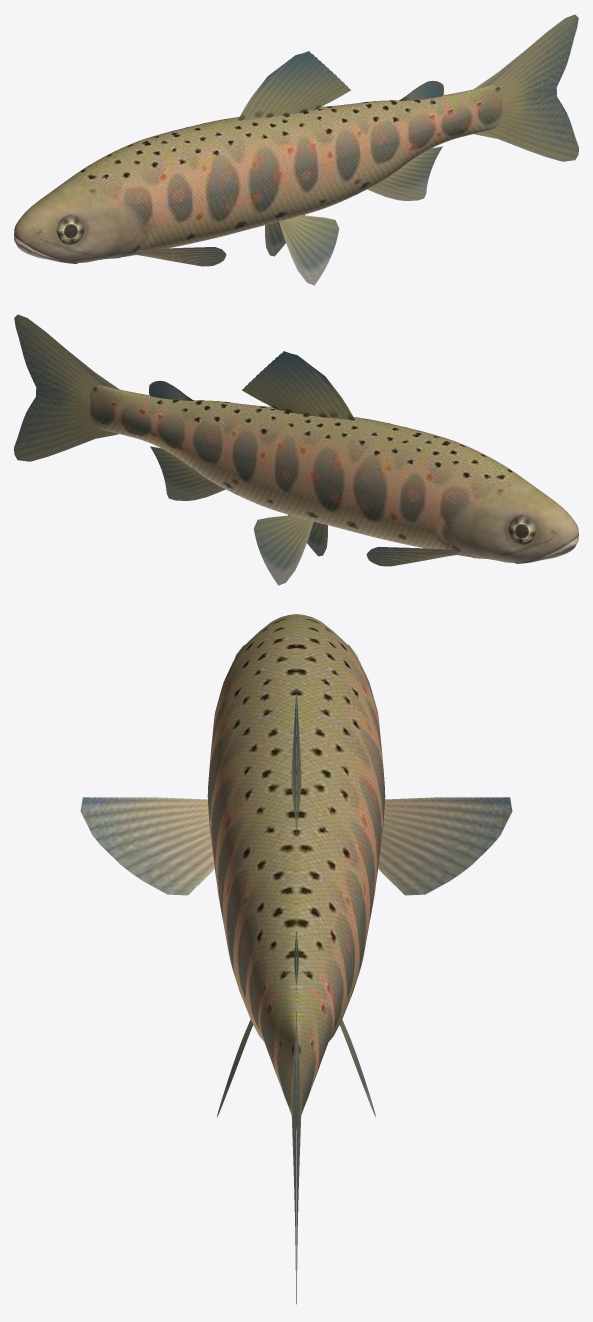
File: AmagoT.fbx
3 renders of one model, top to bottom at view 1: azimuth 30°, elevation 25°; view 2: azimuth 150°, elevation 25°; view 3: azimuth 270°, elevation 25°, orthographic. The views are drawn at different scales.
Parts seen in each view (by area): view 1: 水生动物001ok; view 2: 水生动物001ok; view 3: 水生动物001ok.
Part boxes in pixels (box(x1,y1,x2,y2)): 水生动物001ok: box(14, 14, 578, 285); 水生动物001ok: box(14, 314, 578, 585); 水生动物001ok: box(80, 614, 512, 1304).
Bounding box in the file's own units: 39.95 × 14.65 × 13.26.
